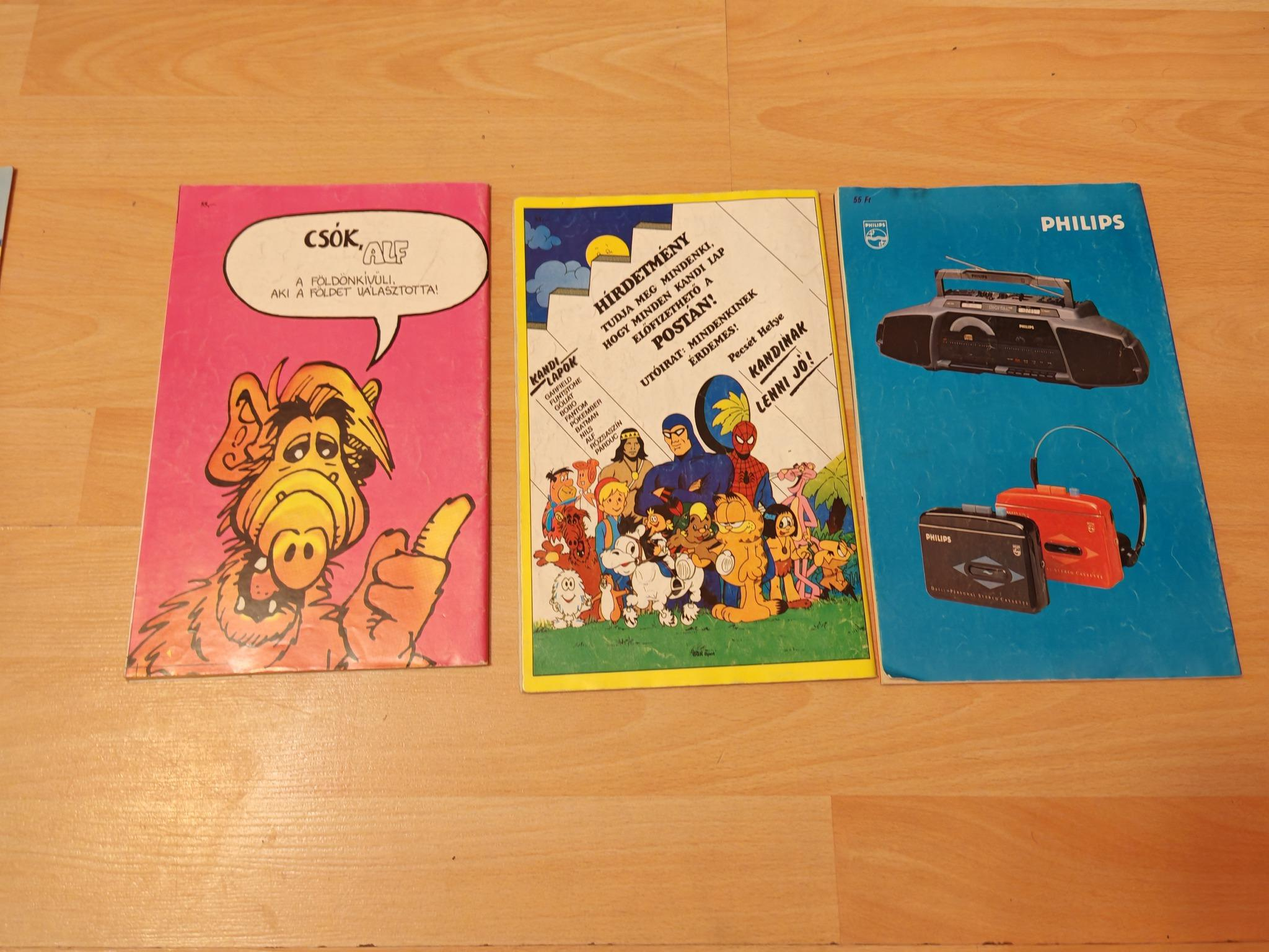comic: (835, 158, 1239, 704), (511, 190, 875, 691), (127, 184, 488, 677)
